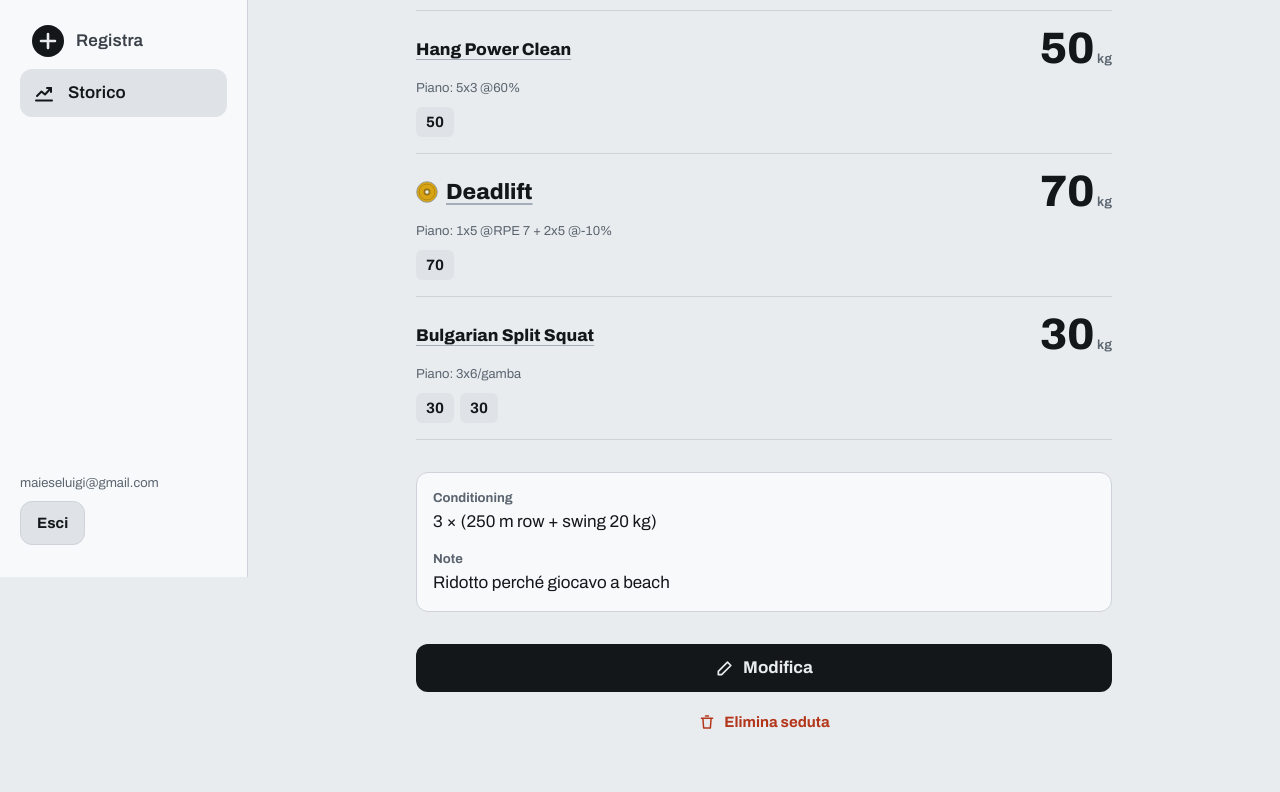
Test: Storico › shows a session in detail and deletes it only after confirmation
(page scrolled)
Check: the text "Ridotto perché giocavo a beach" is shown, box [433,573,670,592]
Check: the text "3 × (250 m row + swing 20 kg)" is shown, box [433,512,657,531]
Click the button "Elimina seduta" at [764, 722], box [416,700,1112,744]
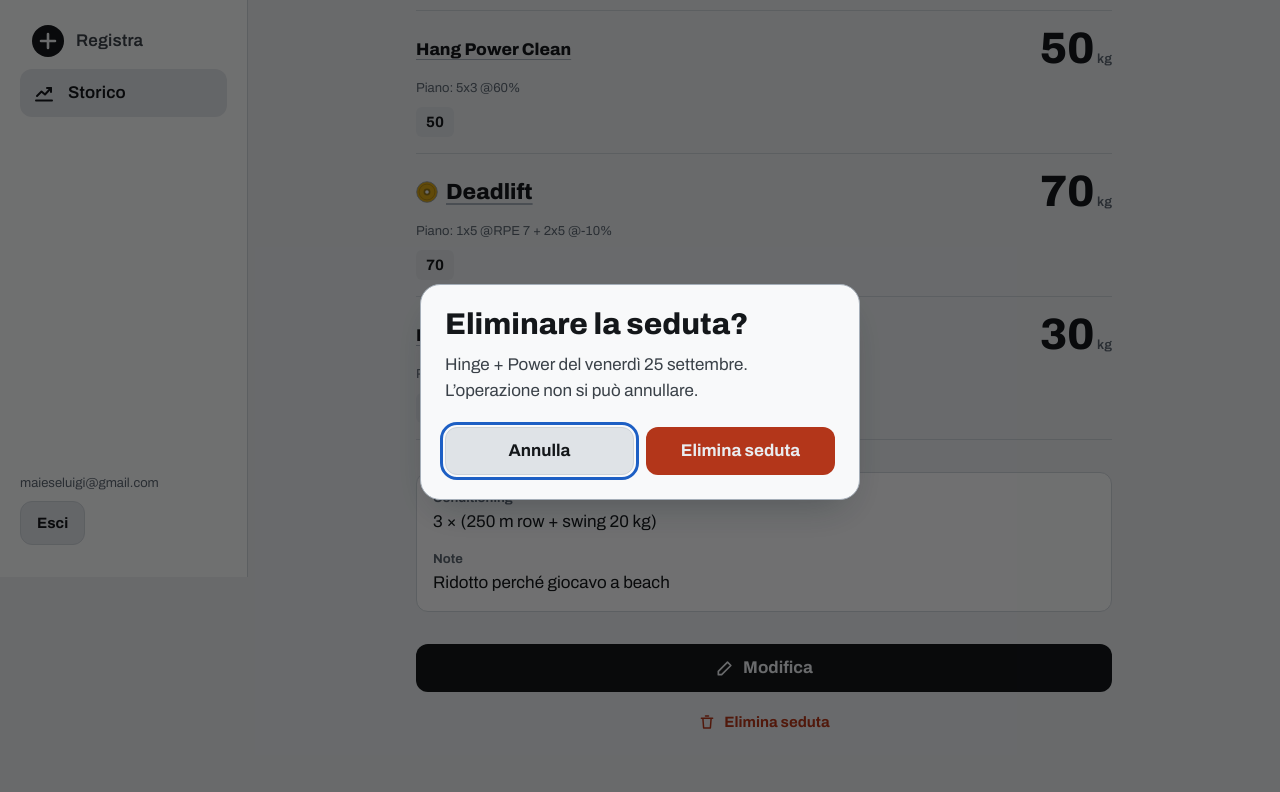
Click the button "Annulla" at [540, 451], box [445,427,634,475]
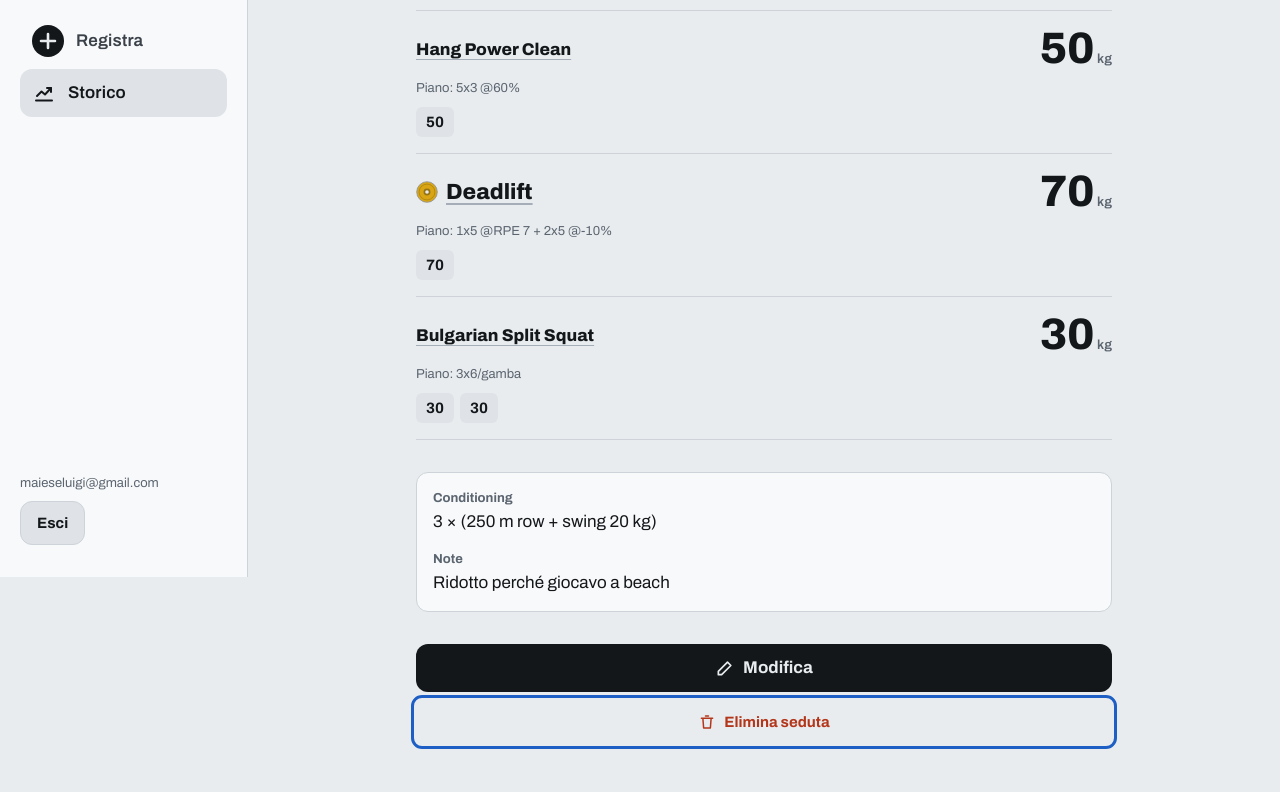
Check: the dialog is gone
Click the button "Elimina seduta" at [764, 722], box [416,700,1112,744]
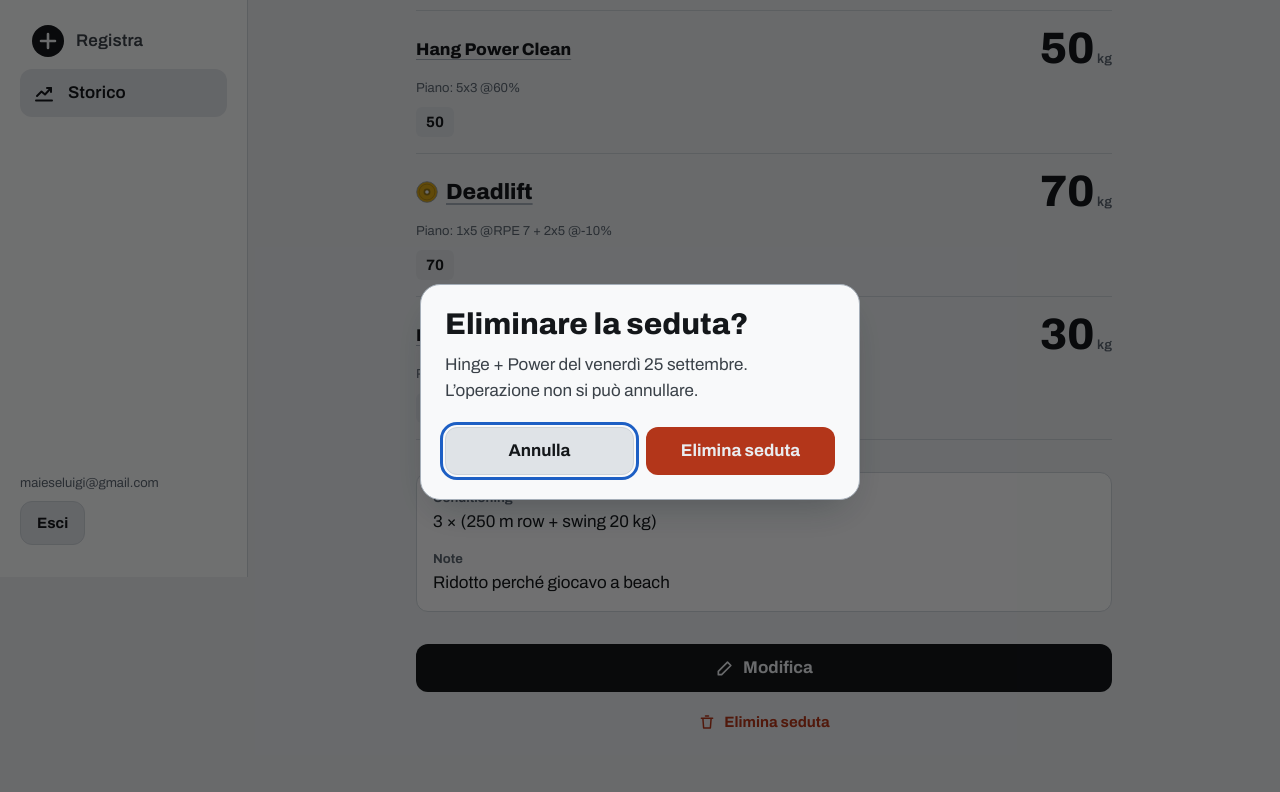
Click the button "Elimina seduta" at [740, 451], box [646,427,835,475]
(page scrolled)
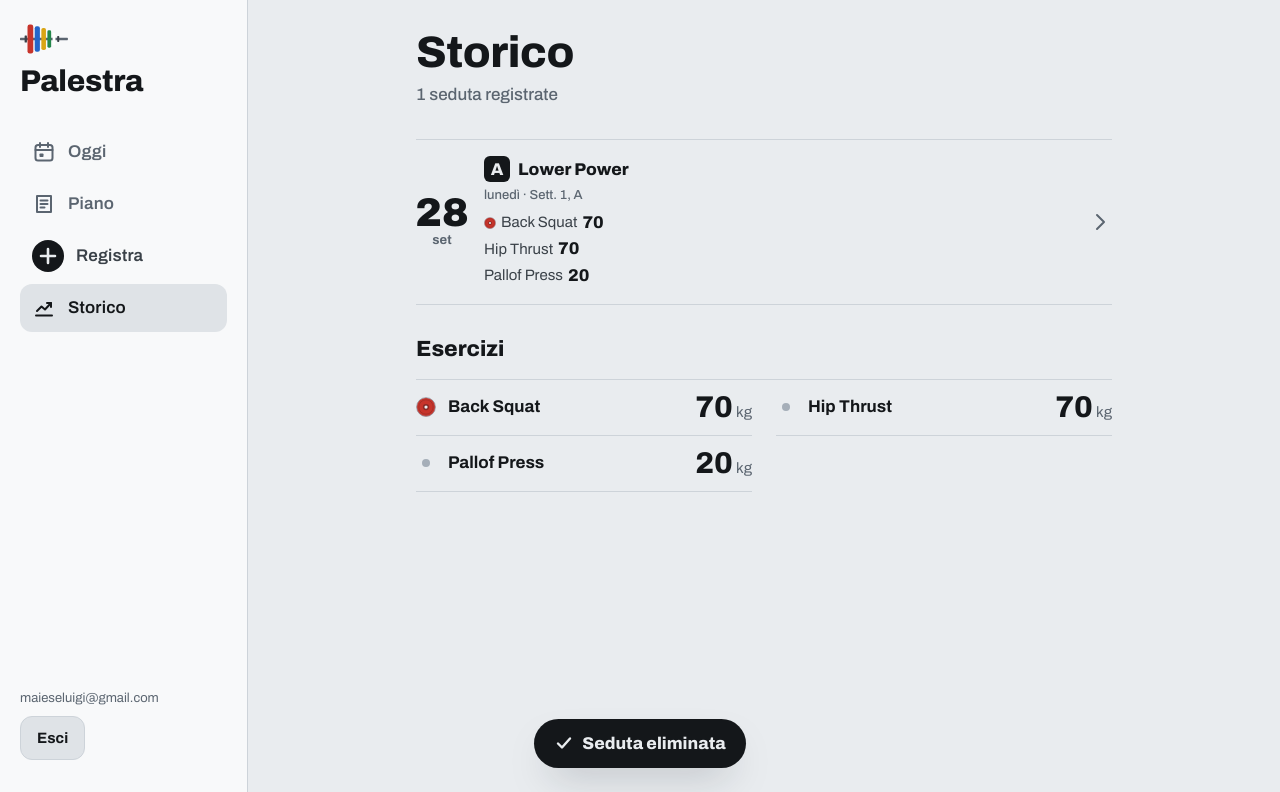
Check: the text "Seduta eliminata" is shown, box [582,730,726,756]
